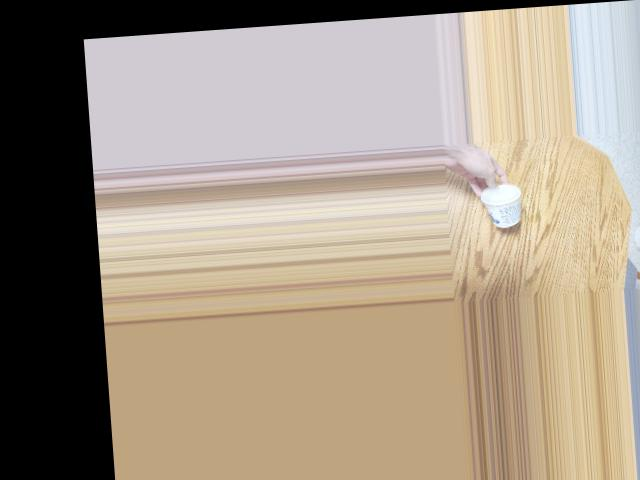cotage: (485, 186, 532, 233)
